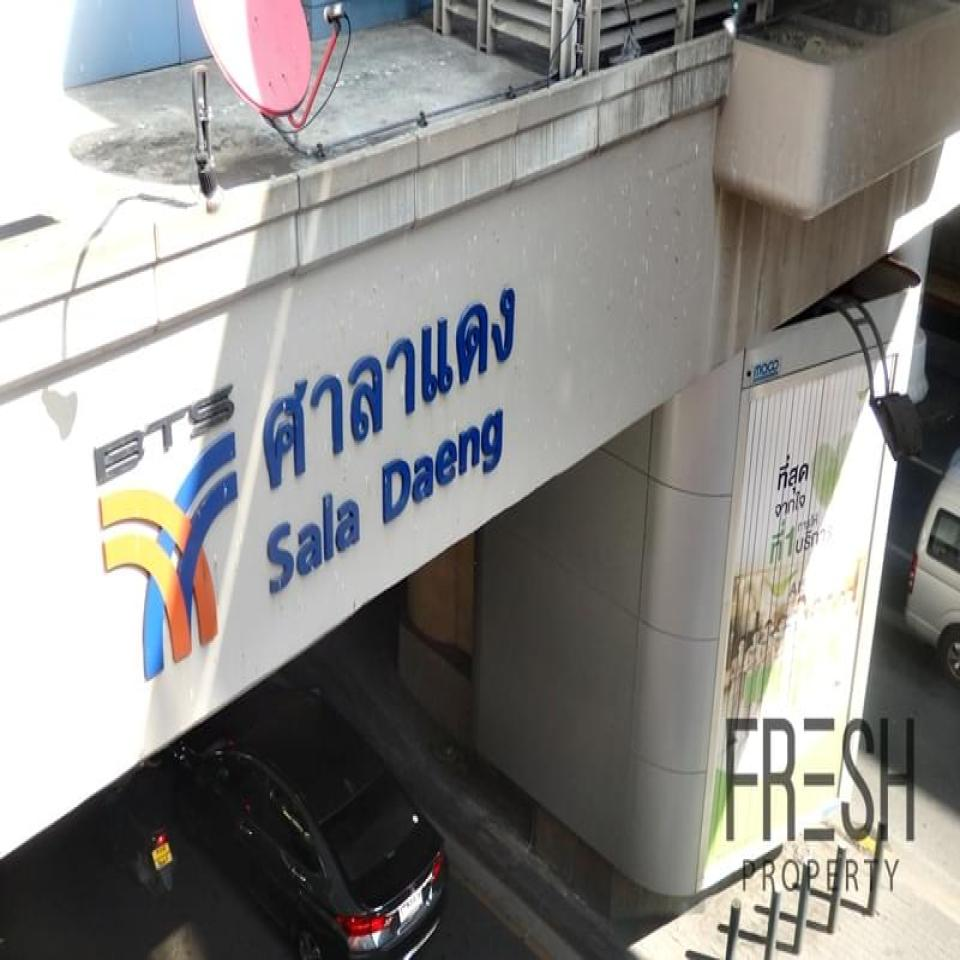Sala Daeng: (90, 284, 519, 684), (260, 284, 518, 599)
